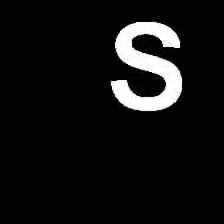LTR_S: (109, 16, 184, 114)
